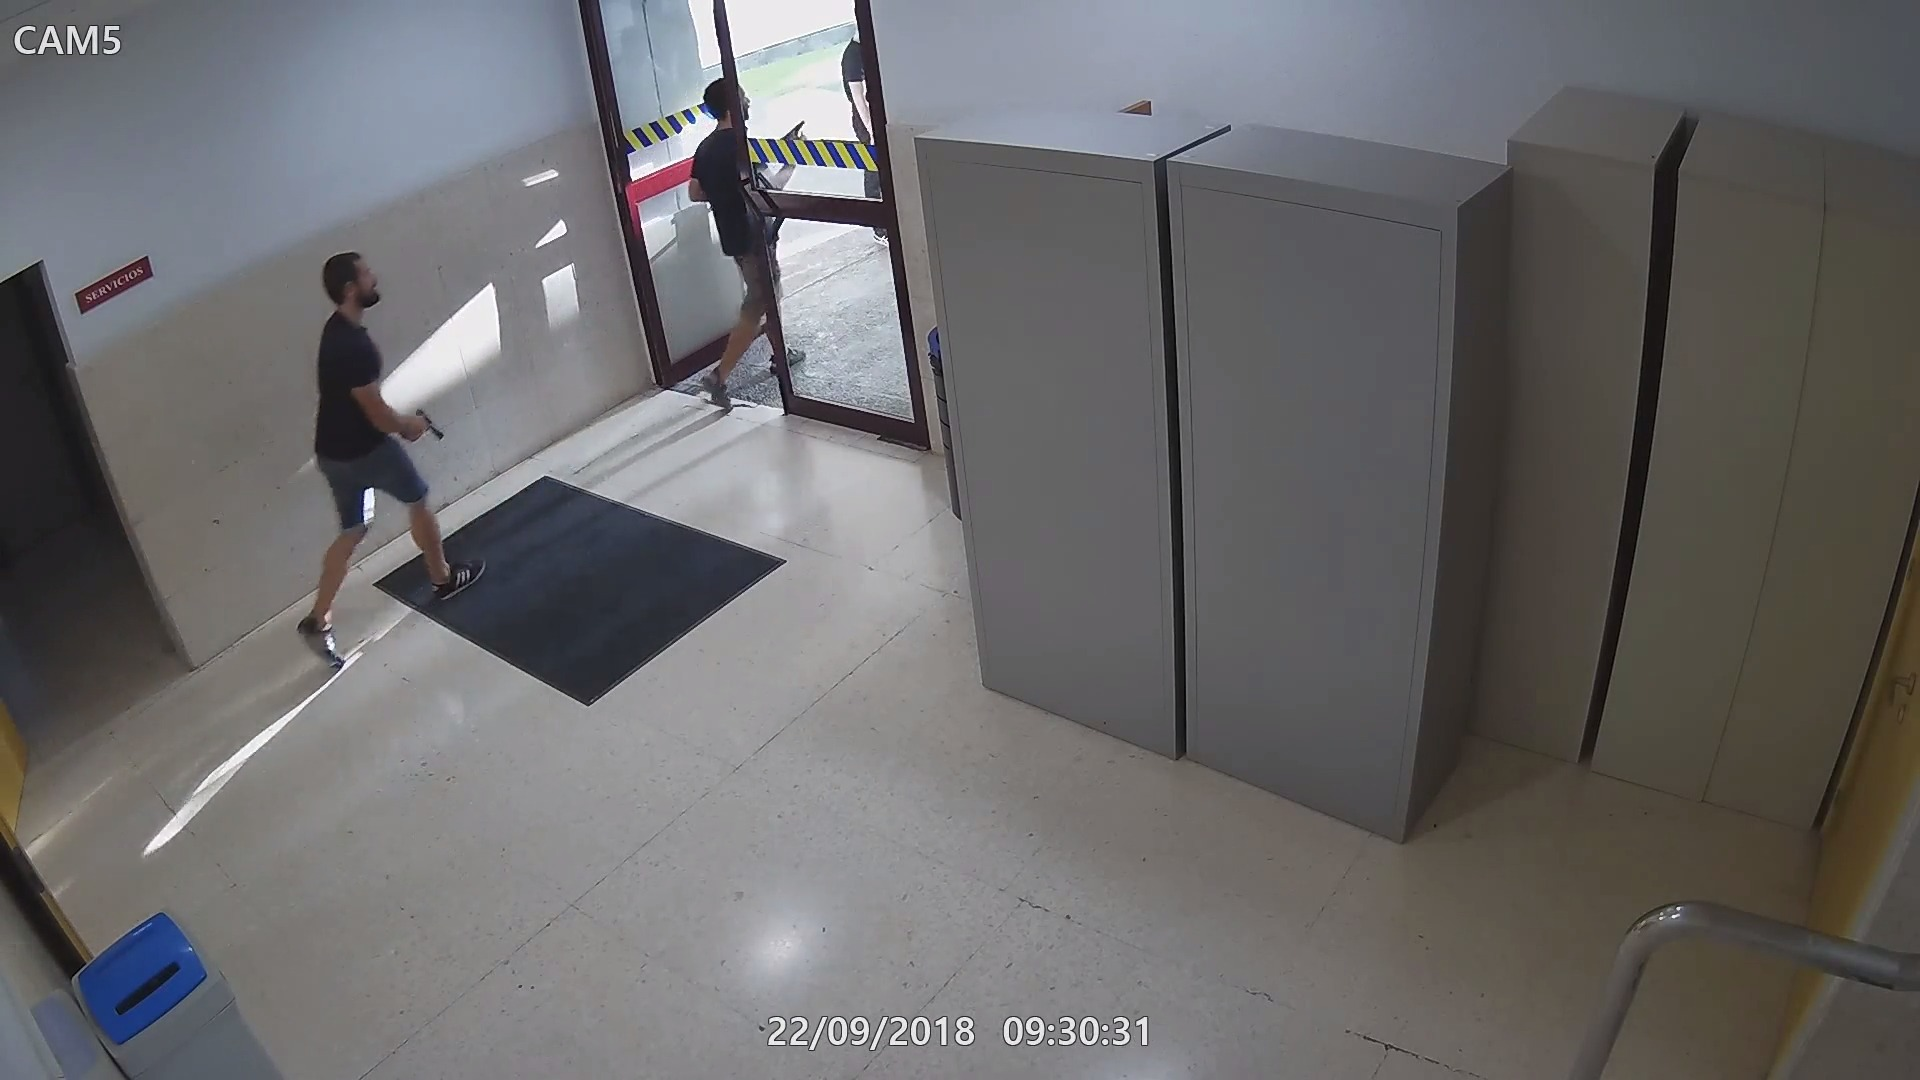Handgun: (404, 405, 450, 444), (779, 112, 806, 137)
